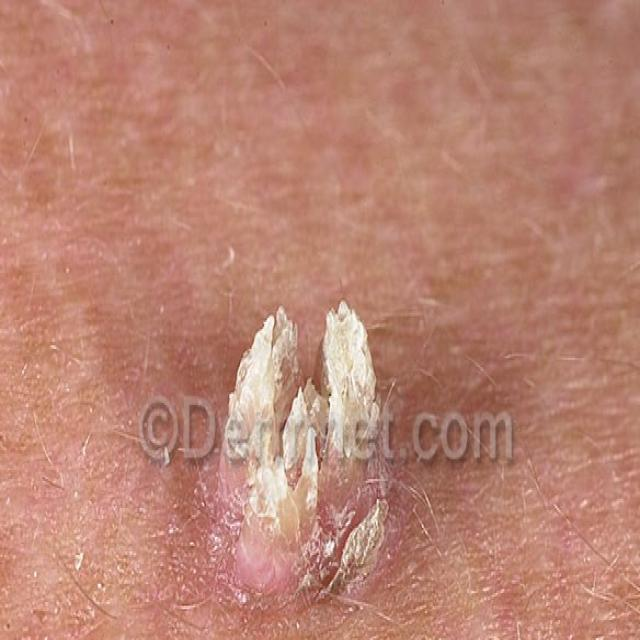Warts: (188, 253, 451, 640)
